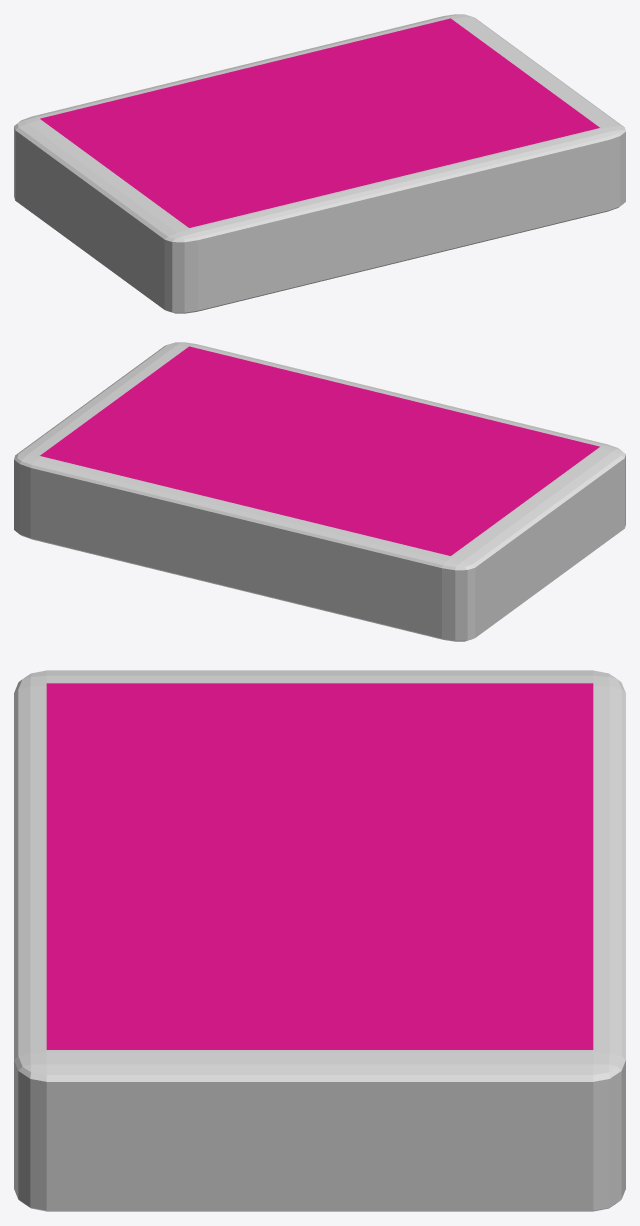
Rendered from tile.glb.
3 views of the same model, one above another, from view 1: azimuth 30°, elevation 25°; view 2: azimuth 150°, elevation 25°; view 3: azimuth 270°, elevation 25° (orthographic). The views are drawn at different scales.
Visible parts, largest first — view 1: Cube.001, Cube; view 2: Cube.001, Cube; view 3: Cube.001, Cube.
Boxes of the visible parts, left/top/right/bottom form: Cube.001: left=40, top=18, right=599, bottom=227; Cube: left=14, top=14, right=625, bottom=313; Cube.001: left=40, top=346, right=599, bottom=555; Cube: left=14, top=342, right=625, bottom=641; Cube.001: left=46, top=683, right=593, bottom=1049; Cube: left=14, top=670, right=625, bottom=1211.
Size of the model in its own units: 3.17 by 0.5283 by 2.
